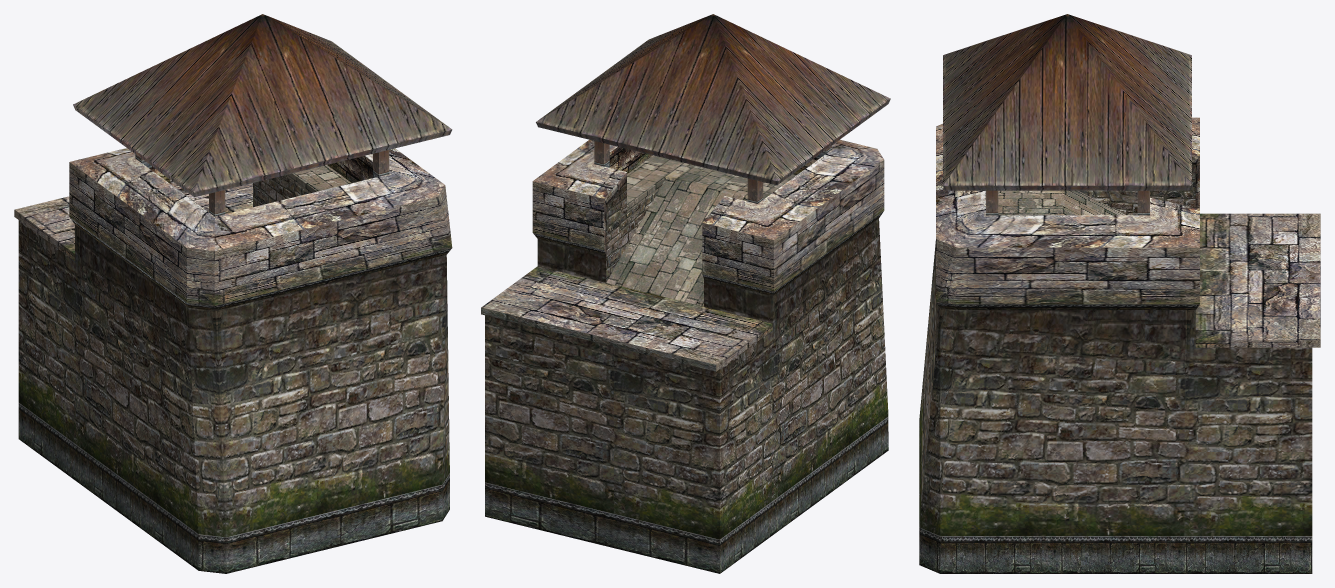
Rendered from tn4_Tower01.glb.
The picture shows the model from 3 angles, left to right: view 1: azimuth 30°, elevation 25°; view 2: azimuth 150°, elevation 25°; view 3: azimuth 270°, elevation 25°; orthographic projection. The views are drawn at different scales.
Visible parts, largest first — view 1: tn4_Tower01; view 2: tn4_Tower01; view 3: tn4_Tower01.
Part boxes in pixels (x1,y1,x2,y2): tn4_Tower01: (14, 14, 452, 573); tn4_Tower01: (481, 14, 890, 573); tn4_Tower01: (919, 14, 1320, 573).
Bounding box in the file's own units: 7.42 × 13.17 × 9.64.
Materials: 7 (7 with a texture image).
